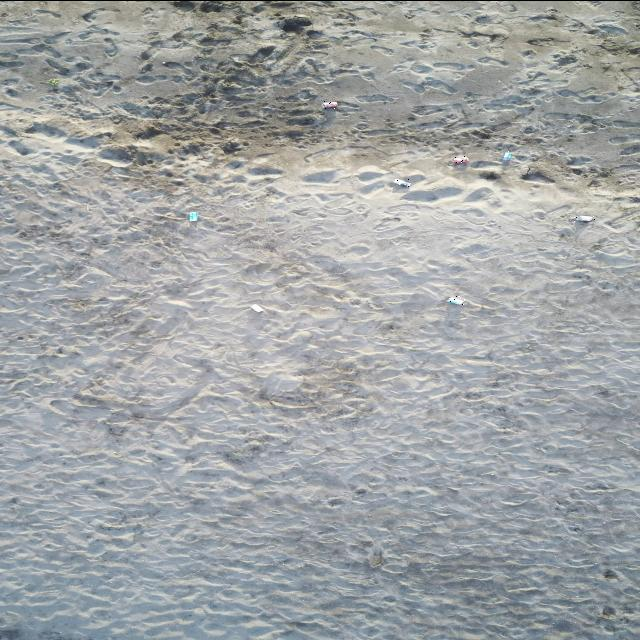Garbage: (520, 167, 553, 183), (280, 16, 311, 32), (572, 215, 593, 221), (48, 77, 59, 88), (502, 151, 512, 163), (448, 296, 464, 303), (393, 179, 409, 186), (249, 303, 263, 311), (452, 156, 467, 163), (323, 100, 336, 108), (187, 212, 196, 220)
